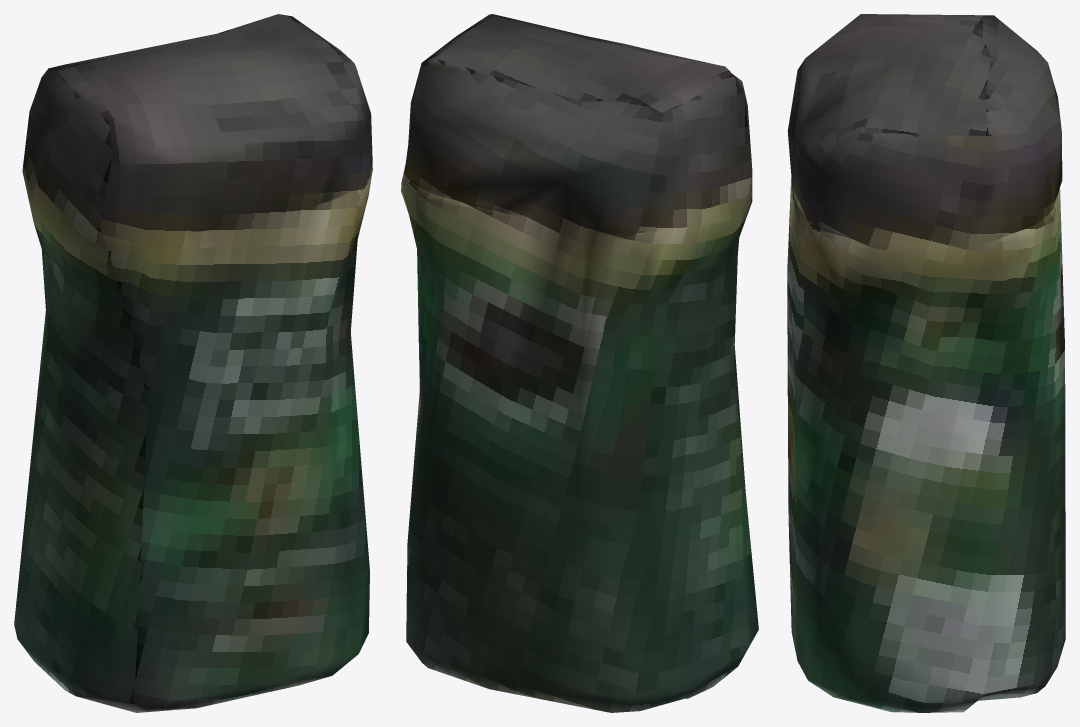
File: Nescafe_Tasters_Choice_Instant_Coffee_Decaf_House_Blend_Light_7_oz-low.glb
3 renders of one model, left to right at view 1: azimuth 30°, elevation 25°; view 2: azimuth 150°, elevation 25°; view 3: azimuth 270°, elevation 25°, orthographic.
Visible parts, largest first — view 1: Nescafe_Tasters_Choice_Instant_Coffee_Decaf_House_Blend_Ligh; view 2: Nescafe_Tasters_Choice_Instant_Coffee_Decaf_House_Blend_Ligh; view 3: Nescafe_Tasters_Choice_Instant_Coffee_Decaf_House_Blend_Ligh.
Part boxes in pixels (bbox=[...]): Nescafe_Tasters_Choice_Instant_Coffee_Decaf_House_Blend_Ligh: bbox=[14, 14, 372, 712]; Nescafe_Tasters_Choice_Instant_Coffee_Decaf_House_Blend_Ligh: bbox=[401, 14, 758, 712]; Nescafe_Tasters_Choice_Instant_Coffee_Decaf_House_Blend_Ligh: bbox=[787, 14, 1065, 712].
Bounding box in the file's own units: 0.0957 × 0.1851 × 0.0782.
1 material, 1 textured.
